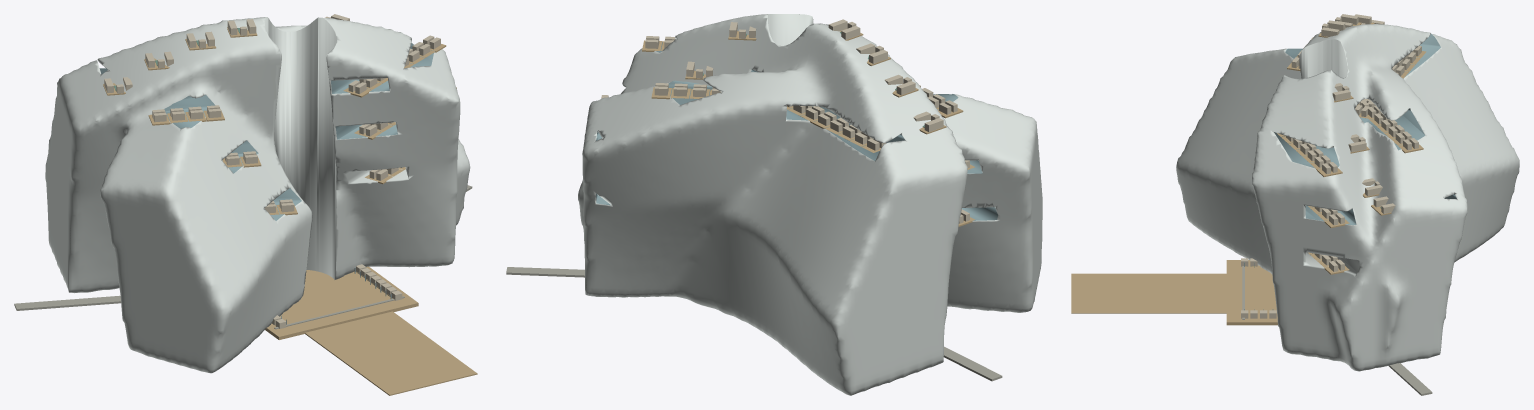
File: B_CENTRAL.glb
The picture shows the model from 3 angles, left to right: view 1: azimuth 30°, elevation 25°; view 2: azimuth 150°, elevation 25°; view 3: azimuth 270°, elevation 25°; orthographic projection. The views are drawn at different scales.
Visible parts, largest first — view 1: CIVIC_CONTINUOUS_MASS_B, arrival_court, great_public_chamber_floor, approach_route.003; view 2: CIVIC_CONTINUOUS_MASS_B, approach_route.001, approach_route.003; view 3: CIVIC_CONTINUOUS_MASS_B, arrival_court, great_public_chamber_floor.
Boxes of the visible parts, x1=… form: CIVIC_CONTINUOUS_MASS_B: x1=45, y1=17, x2=470, y2=373; arrival_court: x1=305, y1=311, x2=477, y2=395; great_public_chamber_floor: x1=265, y1=266, x2=418, y2=339; approach_route.003: x1=14, y1=299, x2=81, y2=310; CIVIC_CONTINUOUS_MASS_B: x1=578, y1=14, x2=1042, y2=395; approach_route.001: x1=506, y1=267, x2=574, y2=276; approach_route.003: x1=949, y1=356, x2=1002, y2=381; CIVIC_CONTINUOUS_MASS_B: x1=1176, y1=24, x2=1519, y2=371; arrival_court: x1=1071, y1=273, x2=1226, y2=313; great_public_chamber_floor: x1=1226, y1=260, x2=1277, y2=325.
Bounding box in the file's own units: 4519 × 2482 × 4098.
